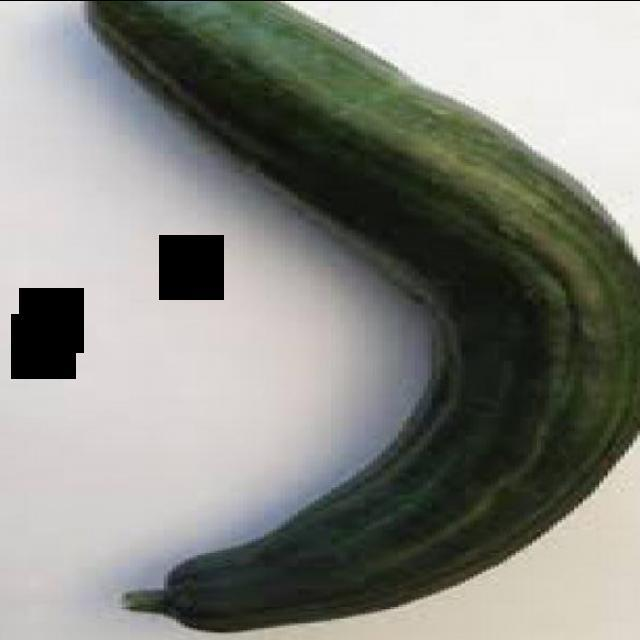cucumber: (76, 0, 640, 630)
